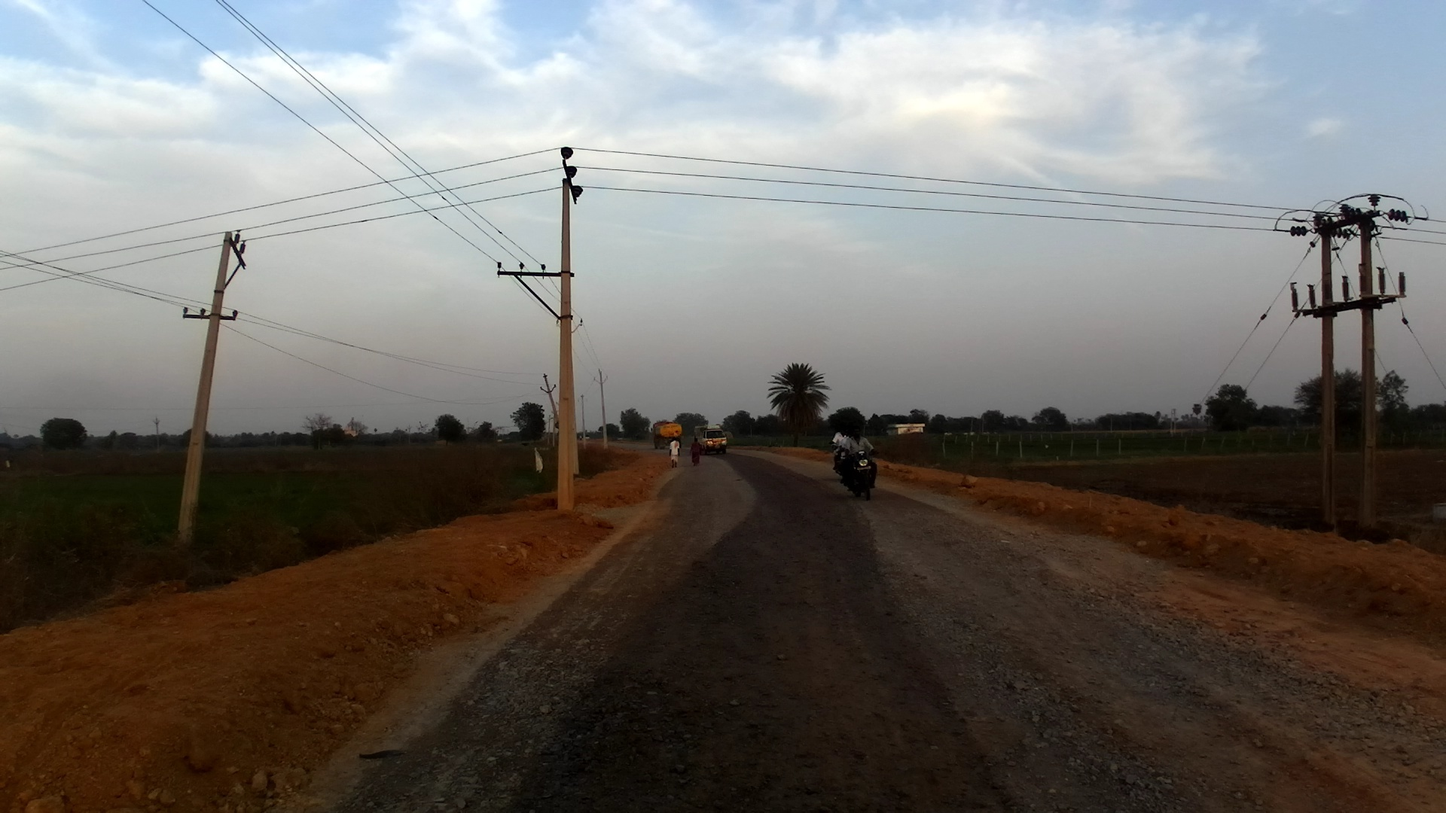motorcycle: (843, 450, 880, 503), (832, 443, 852, 486)
person: (688, 434, 703, 468), (667, 438, 680, 469)
rider: (846, 422, 875, 483), (829, 425, 850, 473)
truck: (691, 424, 728, 459), (652, 419, 680, 452)
